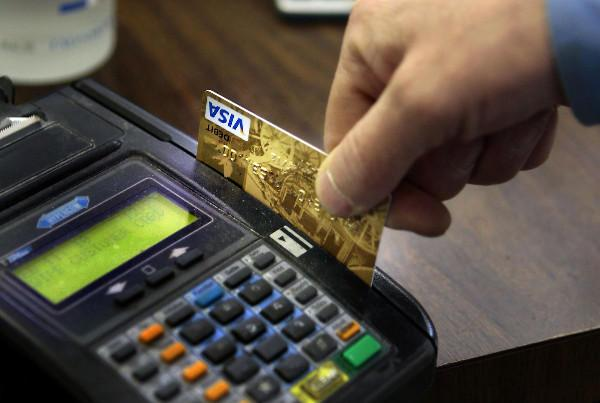tarjeta: (194, 88, 394, 289)
